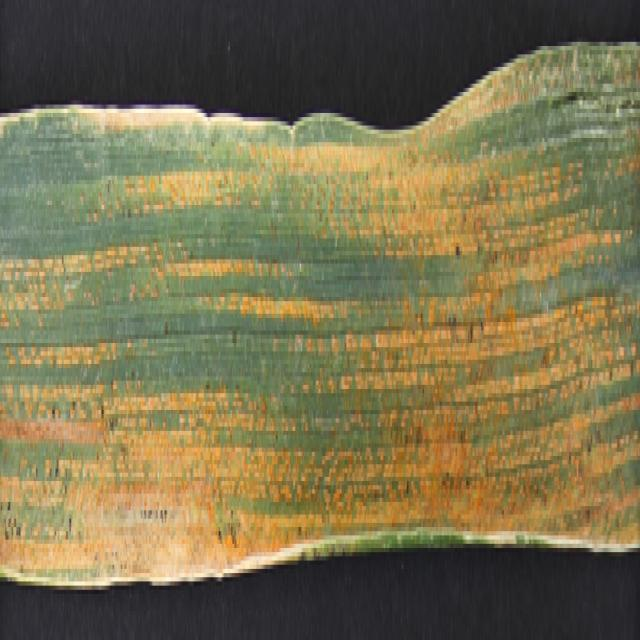leaf rust: (1, 58, 637, 590)
